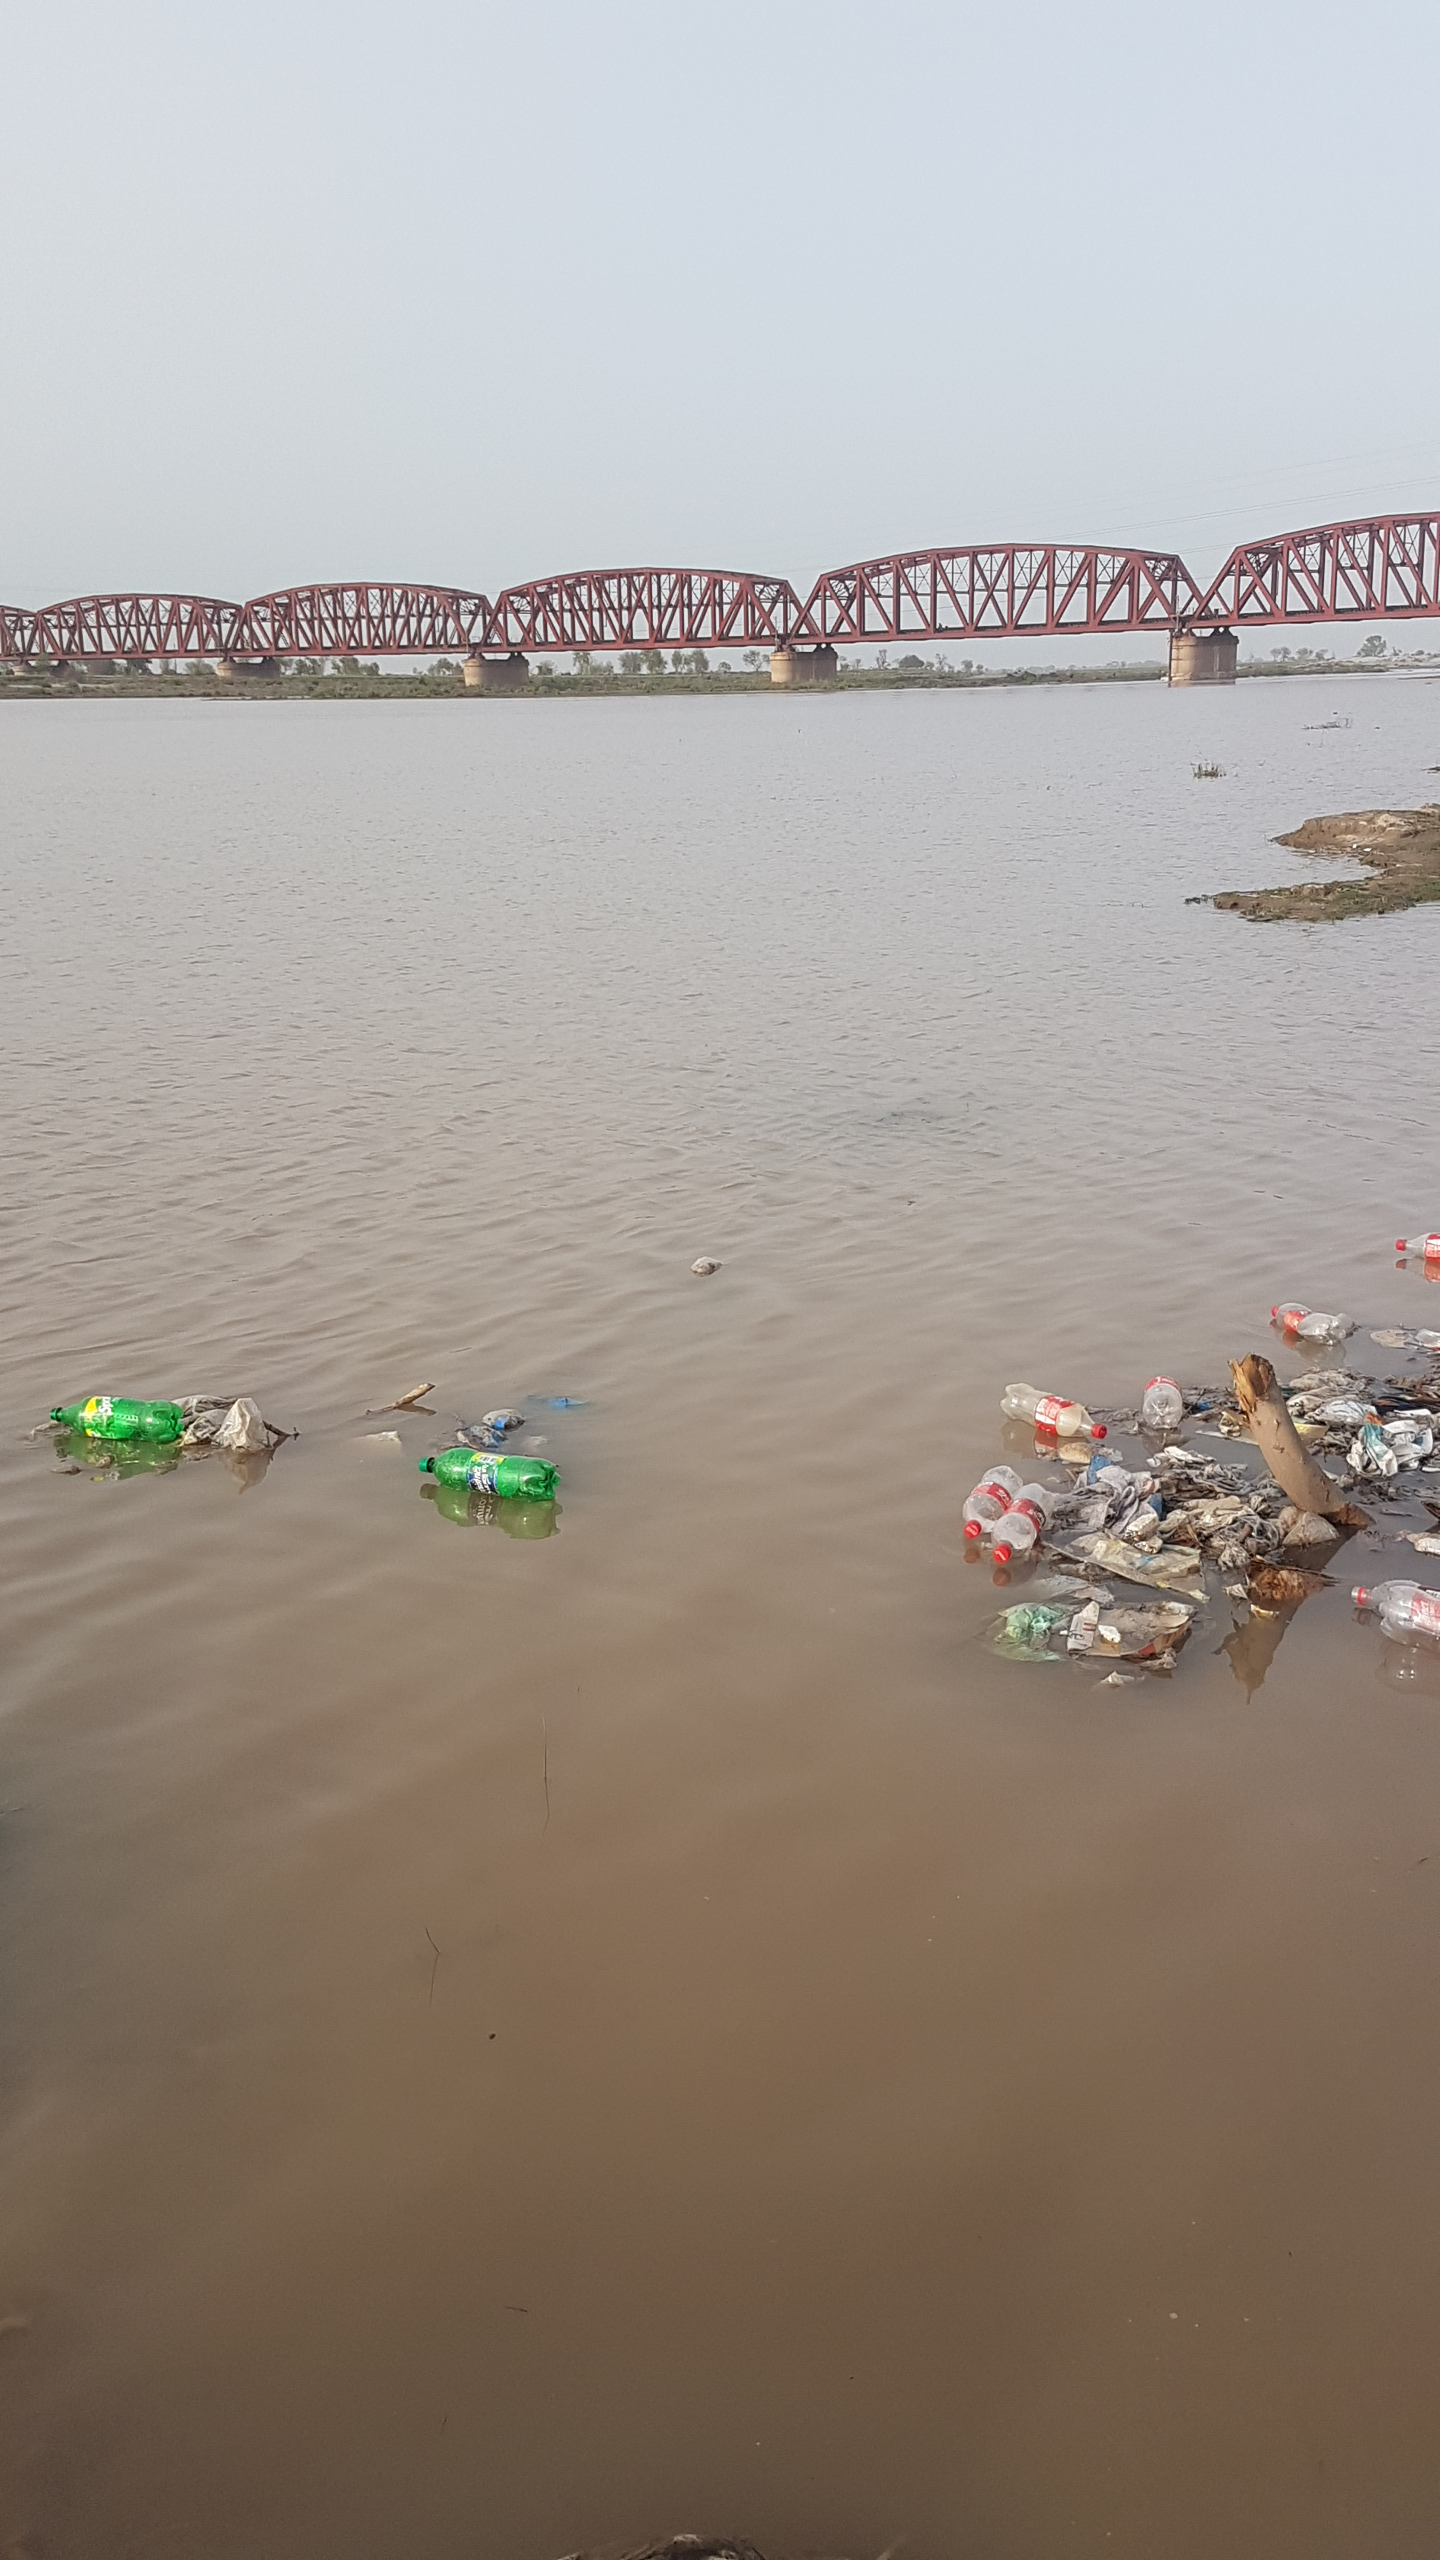Plastic Bottle: (418, 1445, 561, 1502), (51, 1394, 185, 1444), (1000, 1380, 1106, 1438), (992, 1482, 1055, 1561), (962, 1465, 1023, 1540), (1378, 1584, 1440, 1649), (1271, 1303, 1347, 1349), (1350, 1577, 1438, 1616), (1143, 1377, 1182, 1429), (1394, 1233, 1440, 1261)
